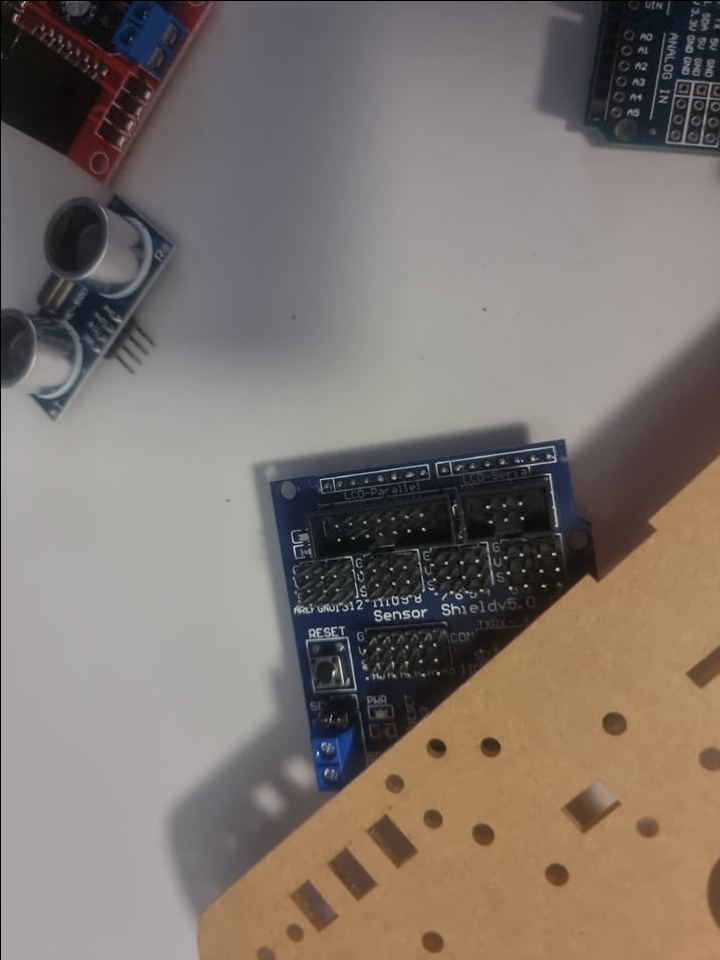5V EXPANSION: (252, 434, 608, 800)
MOTOR: (0, 0, 217, 177)
SENSOR: (0, 196, 173, 426)
